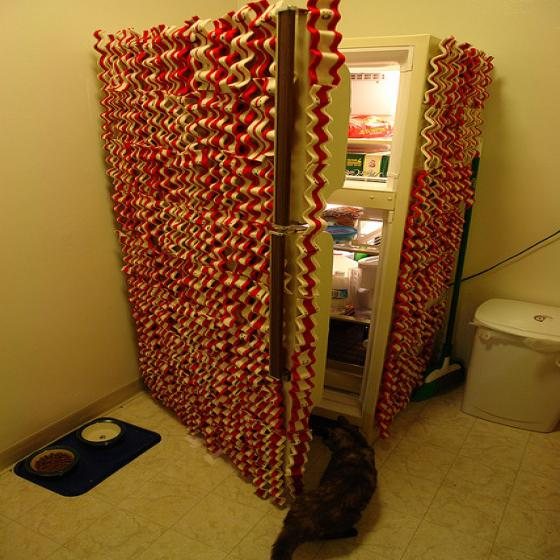bowl: (30, 449, 76, 473), (82, 423, 121, 445), (325, 225, 357, 243)
cat: (266, 414, 381, 560)
refrigerator: (92, 0, 499, 508)
